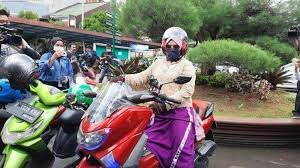motor: (87, 91, 214, 168), (4, 86, 83, 168)
